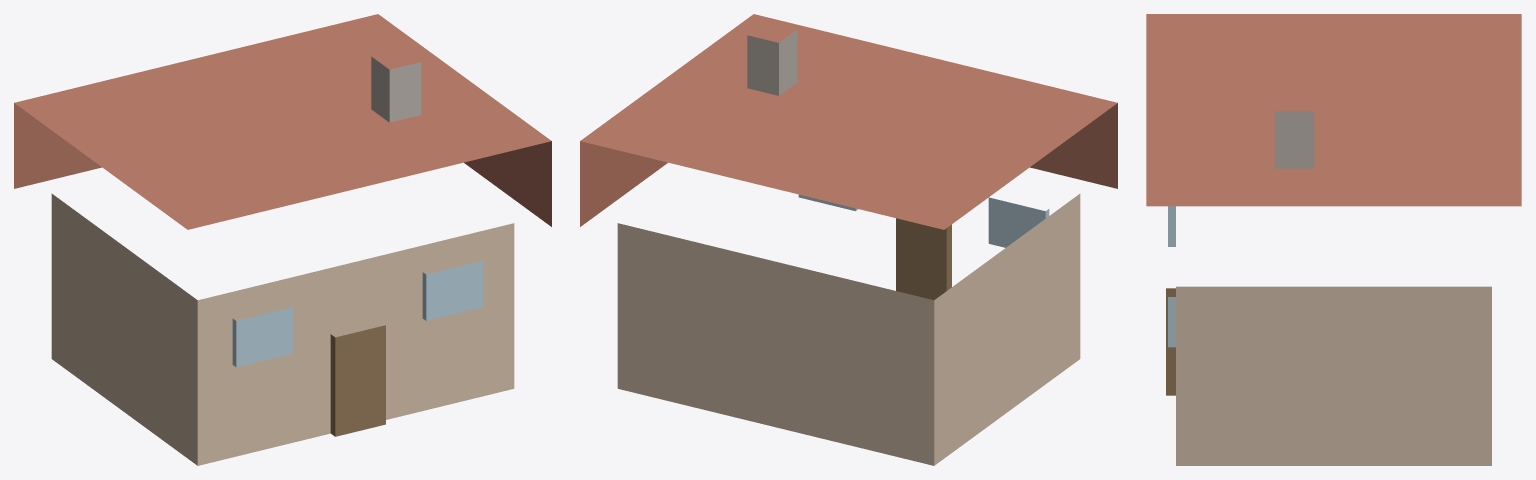
Rendered from house.glb.
The picture shows the model from 3 angles, left to right: view 1: azimuth 30°, elevation 25°; view 2: azimuth 150°, elevation 25°; view 3: azimuth 270°, elevation 25°; orthographic projection. The views are drawn at different scales.
Parts seen in each view (by area): view 1: n1, n0, n2, n4, n3, n5; view 2: n0, n1, n2, n5, n4; view 3: n1, n0, n5, n2, n3.
Part boxes in pixels (x1,y1,x2,y2): n1: [14, 14, 551, 229]; n0: [51, 193, 514, 465]; n2: [330, 325, 385, 436]; n4: [232, 307, 293, 367]; n3: [422, 261, 483, 320]; n5: [371, 56, 421, 122]; n0: [617, 193, 1080, 465]; n1: [580, 14, 1117, 229]; n2: [896, 218, 951, 299]; n5: [747, 30, 797, 95]; n4: [988, 197, 1049, 247]; n1: [1146, 14, 1521, 206]; n0: [1176, 286, 1491, 465]; n5: [1274, 111, 1314, 168]; n2: [1166, 288, 1175, 395]; n3: [1168, 297, 1175, 347].
Bounding box in the file's own units: 11.5 × 9.2 × 9.5.
